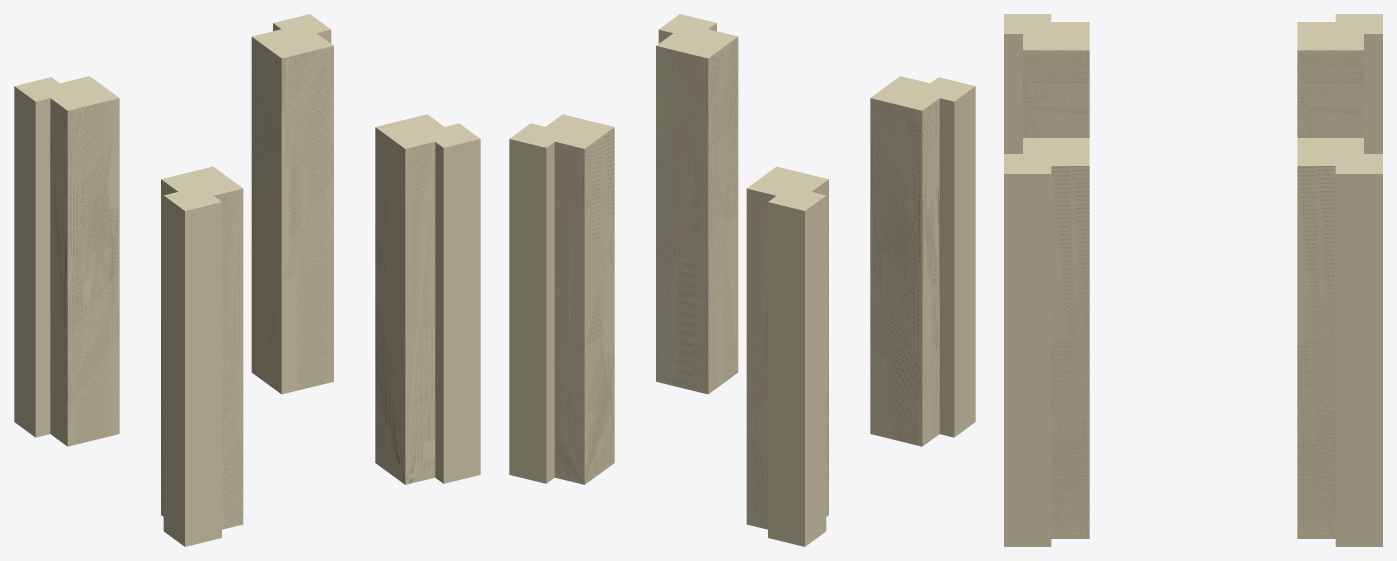
File: towerSquarePoles.obj
3 renders of one model, left to right at view 1: azimuth 30°, elevation 25°; view 2: azimuth 150°, elevation 25°; view 3: azimuth 270°, elevation 25°, orthographic. The views are drawn at different scales.
Parts seen in each view (by area): view 1: towerSquarePoles; view 2: towerSquarePoles; view 3: towerSquarePoles.
Boxes of the visible parts, <box> form: towerSquarePoles: <box>14,14,480,546</box>; towerSquarePoles: <box>509,14,975,546</box>; towerSquarePoles: <box>1004,14,1382,546</box>.
Size of the model in its own units: 9.3 by 10.1 by 9.3.
